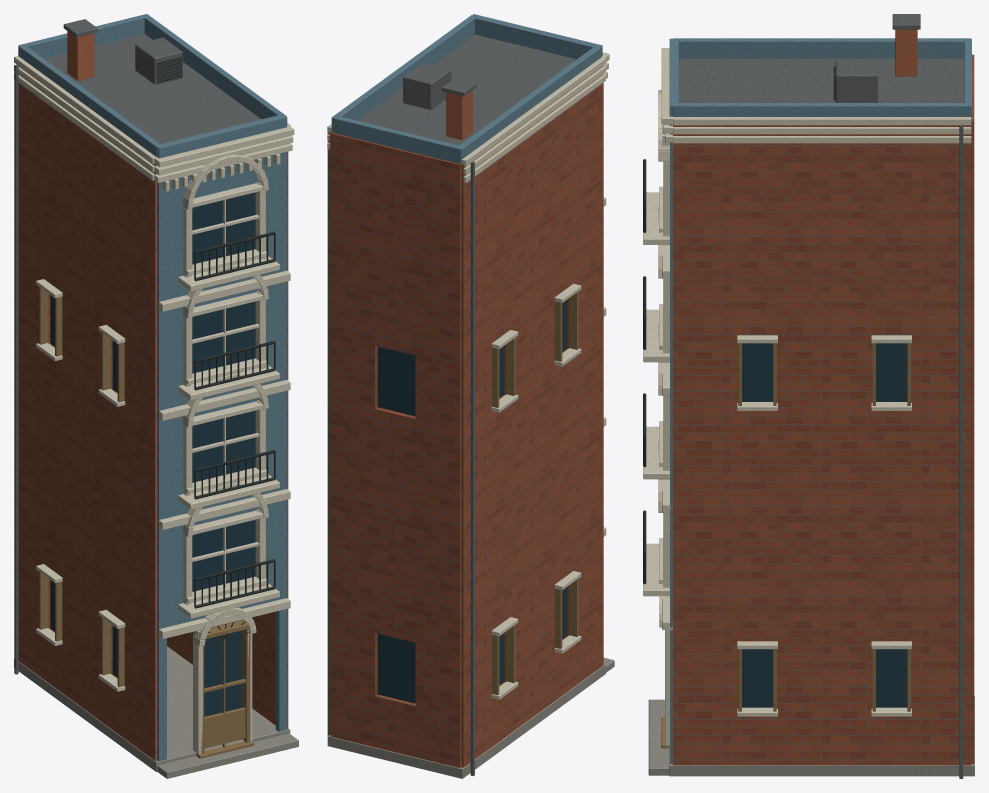
File: OFFC1_lod1.glb
3 views of the same model, side by side, from view 1: azimuth 30°, elevation 25°; view 2: azimuth 150°, elevation 25°; view 3: azimuth 270°, elevation 25° (orthographic). The views are drawn at different scales.
Parts seen in each view (by area): view 1: OFFC1_LOD1; view 2: OFFC1_LOD1; view 3: OFFC1_LOD1.
Part boxes in pixels (left/top/right/bottom): OFFC1_LOD1: left=14, top=14, right=298, bottom=778; OFFC1_LOD1: left=327, top=14, right=614, bottom=778; OFFC1_LOD1: left=643, top=14, right=974, bottom=778.
Bounding box in the file's own units: 3.71 × 15.65 × 6.68.
10 materials, 8 textured.
